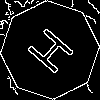H: (25, 25, 84, 83)
